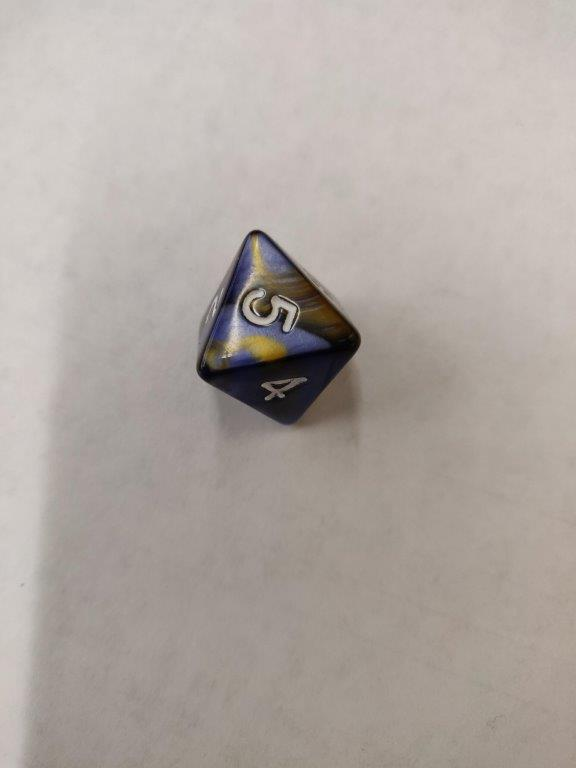d8-5: (193, 227, 365, 431)
